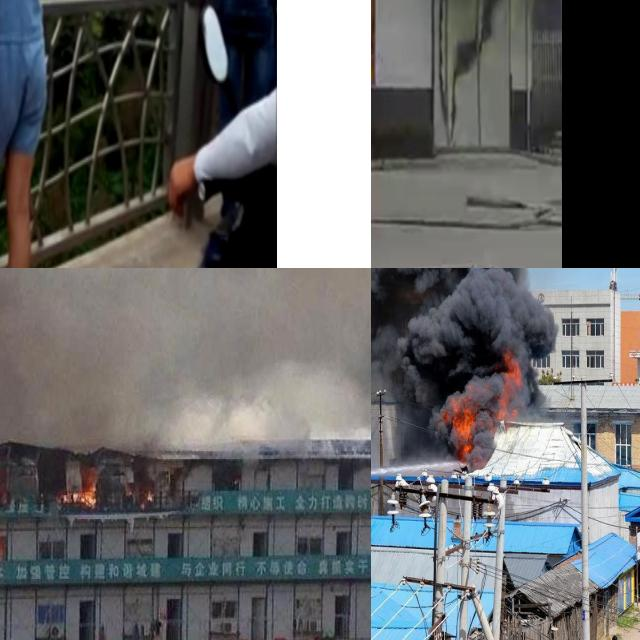fire: (439, 353, 522, 459), (59, 475, 99, 506), (141, 487, 153, 503)
smoke: (0, 268, 371, 433), (371, 268, 640, 461)
